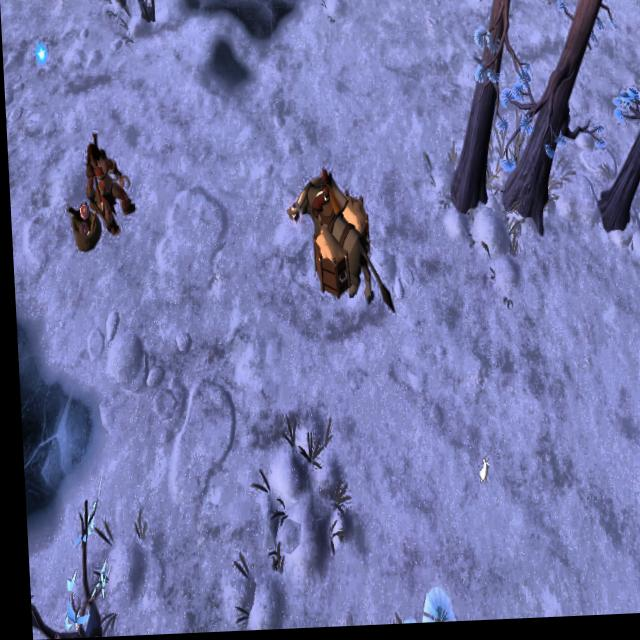enemy_factionKeeper: (81, 136, 135, 238)
